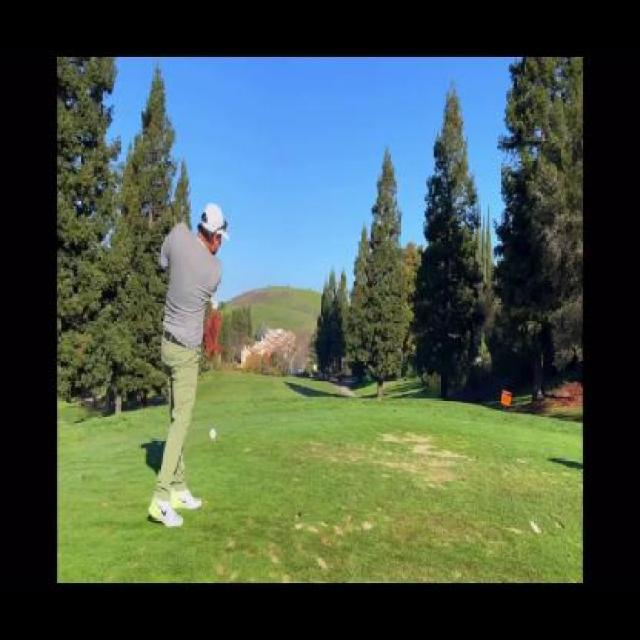club head: (140, 100, 152, 134)
